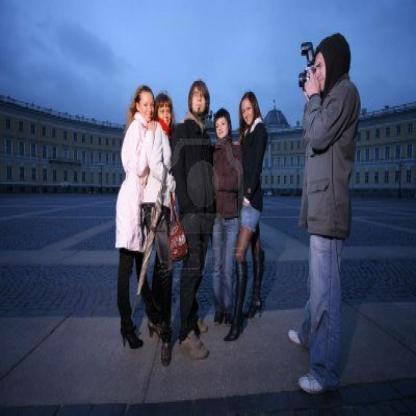face: (315, 51, 329, 91), (142, 94, 155, 122), (193, 88, 206, 113), (243, 99, 255, 125), (159, 103, 171, 128), (217, 117, 230, 139)
